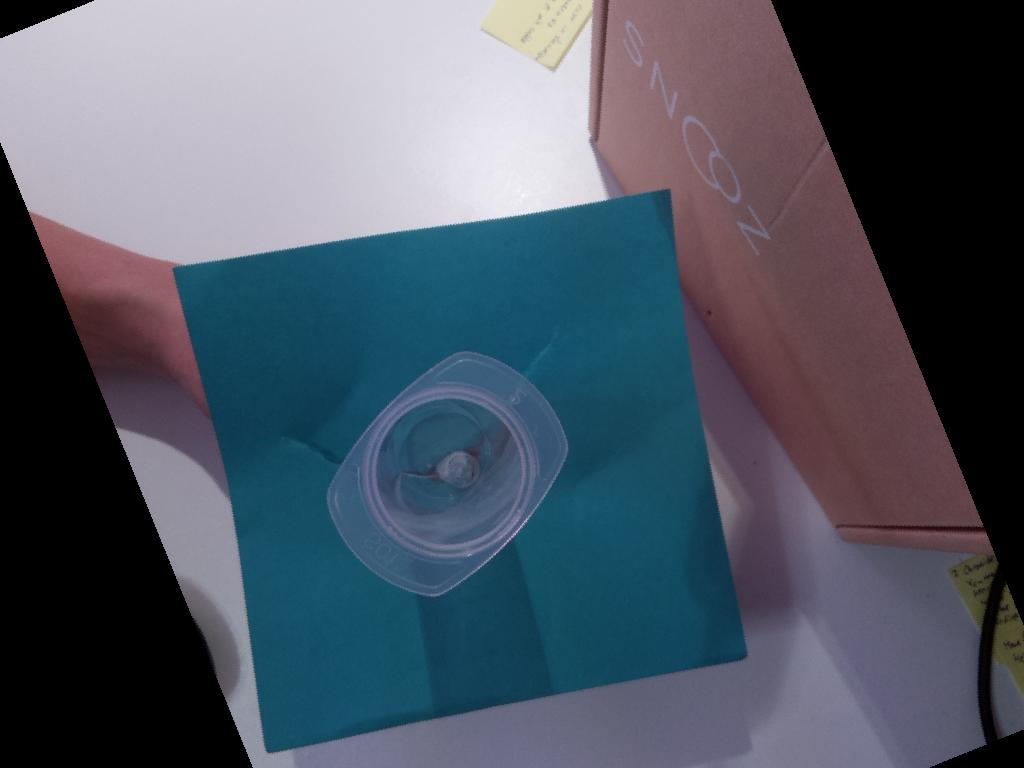clean: (320, 346, 575, 595)
